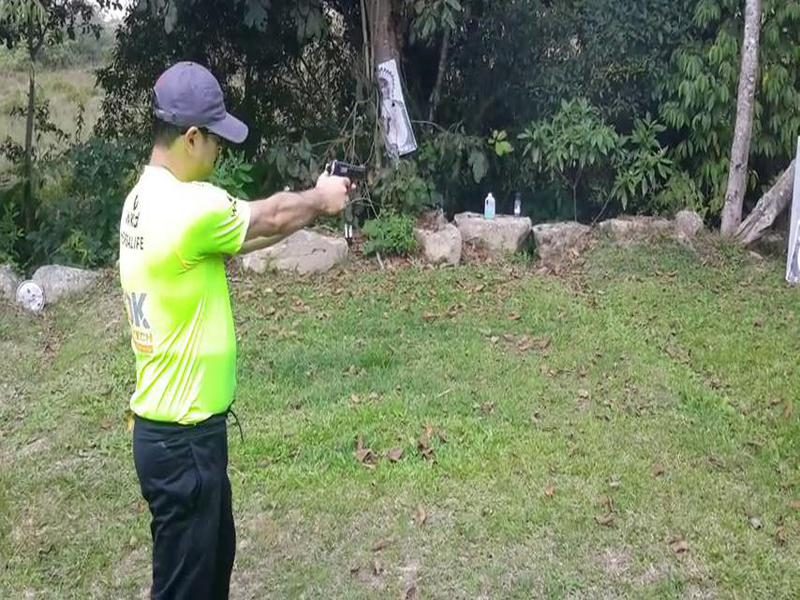Pistola: (320, 147, 373, 206)
